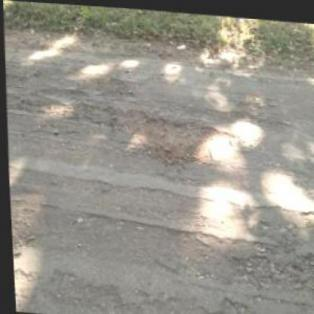Hueco: (99, 106, 237, 167)
